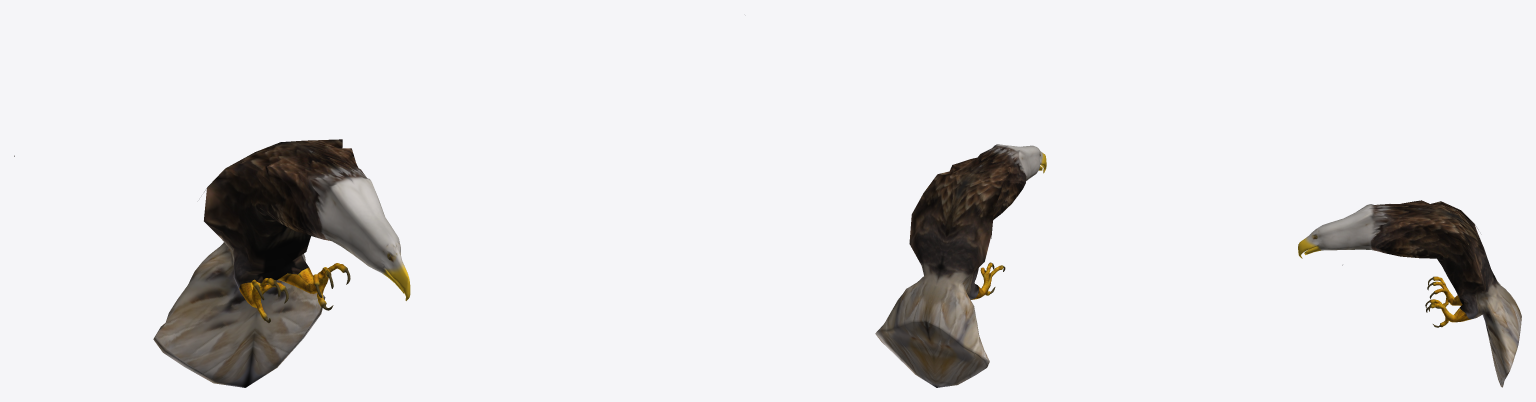
The model's file is aguila.fbx.
3 renders of one model, left to right at view 1: azimuth 30°, elevation 25°; view 2: azimuth 150°, elevation 25°; view 3: azimuth 270°, elevation 25°, orthographic. The views are drawn at different scales.
Visible parts, largest first — view 1: Flugel; view 2: Flugel; view 3: Flugel.
Boxes of the visible parts, bbox=[...] form: Flugel: bbox=[14, 139, 410, 387]; Flugel: bbox=[875, 144, 1046, 387]; Flugel: bbox=[1298, 200, 1521, 387].
Bounding box in the file's own units: 1009 × 550 × 427.
